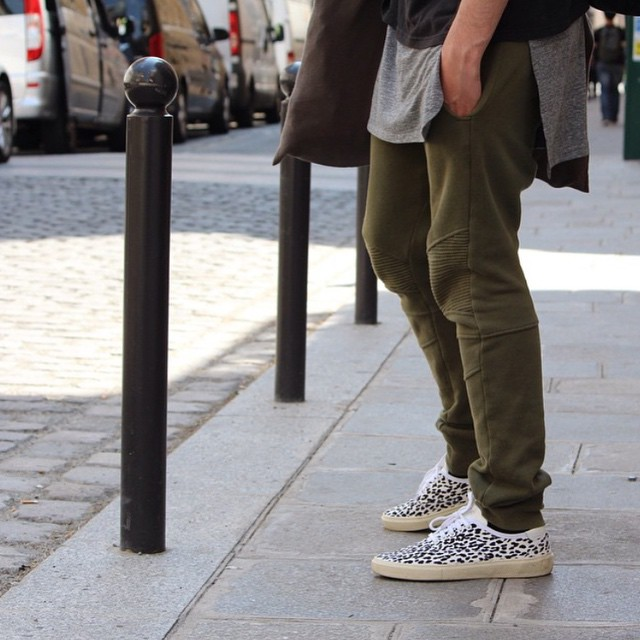sneaker: (364, 485, 566, 599), (365, 450, 495, 540)
